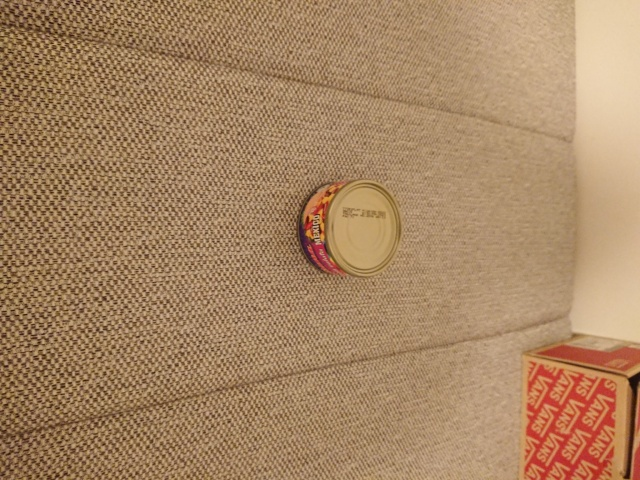Giana Tuna Salad Mexico 185g: (295, 175, 406, 283)
